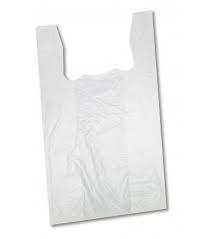Plastic bag: (26, 4, 183, 232)
